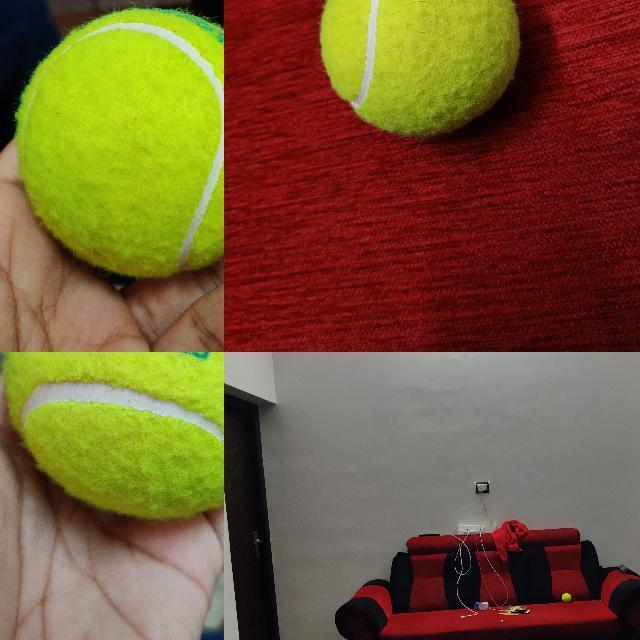tennis-ball: (16, 8, 223, 275), (4, 352, 223, 518), (319, 0, 520, 138), (561, 593, 571, 602)
